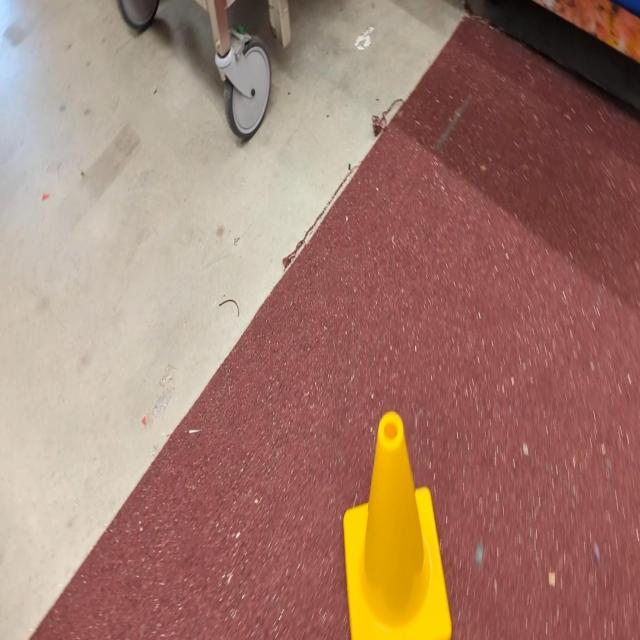frc_cone: (343, 413, 452, 639)
